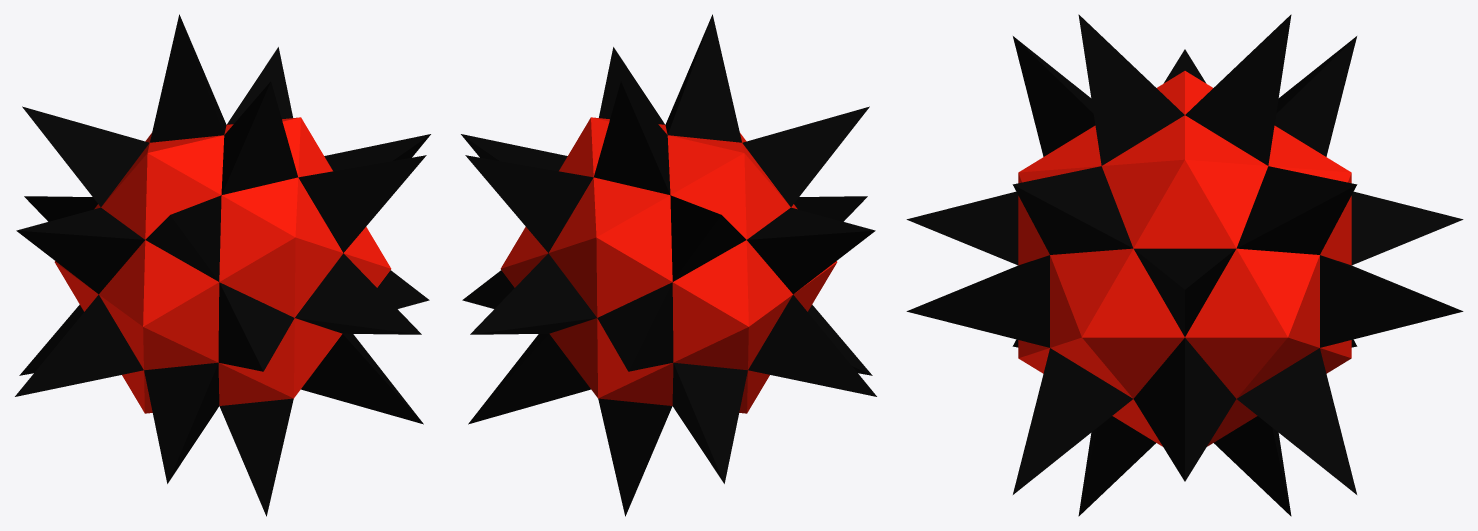
Rendered from Spikyball.fbx.
3 views of the same model, side by side, from view 1: azimuth 30°, elevation 25°; view 2: azimuth 150°, elevation 25°; view 3: azimuth 270°, elevation 25° (orthographic). The views are drawn at different scales.
Parts seen in each view (by area): view 1: Virus_1; view 2: Virus_1; view 3: Virus_1.
Part boxes in pixels (x1=…): Virus_1: x1=15, y1=14, x2=430, y2=516; Virus_1: x1=461, y1=14, x2=876, y2=516; Virus_1: x1=906, y1=14, x2=1463, y2=516.
Size of the model in its own units: 322 by 321 by 321.
